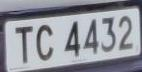2: (117, 12, 135, 56)
3: (99, 12, 118, 56)
4: (61, 17, 84, 63), (81, 15, 101, 62)
C: (33, 20, 58, 67)
T: (13, 21, 37, 71)
